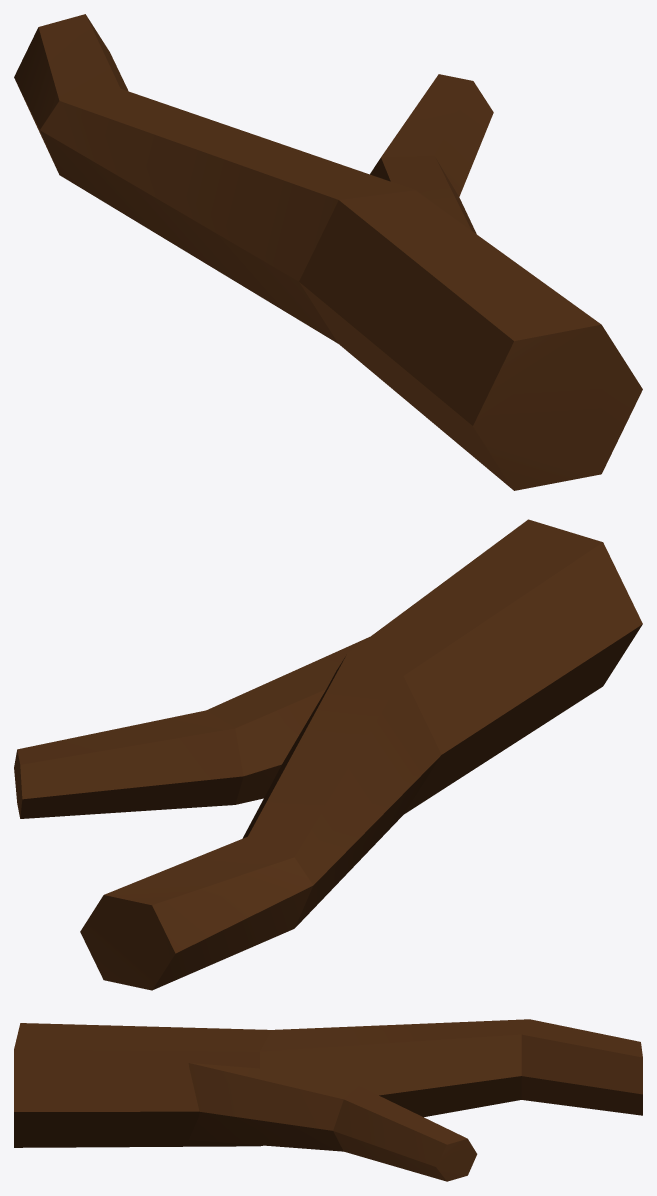
File: stick_02_c.fbx
3 views of the same model, one above another, from view 1: azimuth 30°, elevation 25°; view 2: azimuth 150°, elevation 25°; view 3: azimuth 270°, elevation 25° (orthographic). The views are drawn at different scales.
Parts seen in each view (by area): view 1: Stick_02_c; view 2: Stick_02_c; view 3: Stick_02_c.
Part boxes in pixels (x1=…): Stick_02_c: x1=14, y1=14, x2=642, y2=490; Stick_02_c: x1=14, y1=519, x2=642, y2=990; Stick_02_c: x1=14, y1=1019, x2=642, y2=1181.
Bounding box in the file's own units: 7.29 × 15.8 × 2.73.
